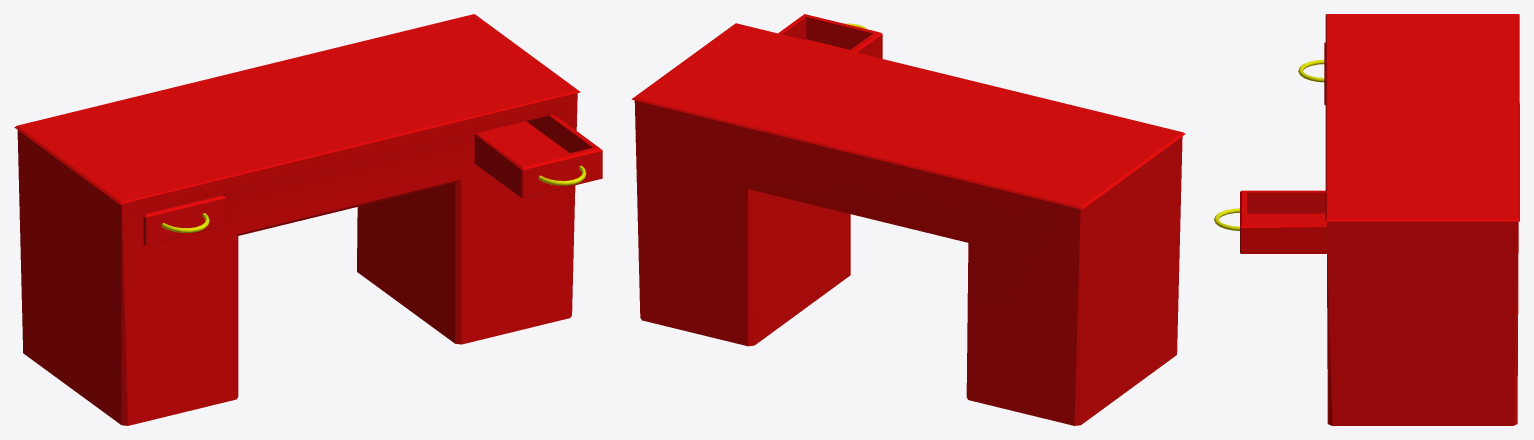
Rendered from Bureau.fbx.
3 views of the same model, side by side, from view 1: azimuth 30°, elevation 25°; view 2: azimuth 150°, elevation 25°; view 3: azimuth 270°, elevation 25° (orthographic). The views are drawn at different scales.
Visible parts, largest first — view 1: pCube12, pCube13, pCube14; view 2: pCube12, pCube13; view 3: pCube12, pCube13.
Part boxes in pixels (x1,y1,x2,y2): pCube12: (14,14,580,425); pCube13: (474,114,602,198); pCube14: (143,195,225,245); pCube12: (631,23,1185,425); pCube13: (778,14,882,58); pCube12: (1325,14,1519,425); pCube13: (1240,190,1326,253).
Size of the model in its own units: 5.7 by 2.67 by 3.55.
